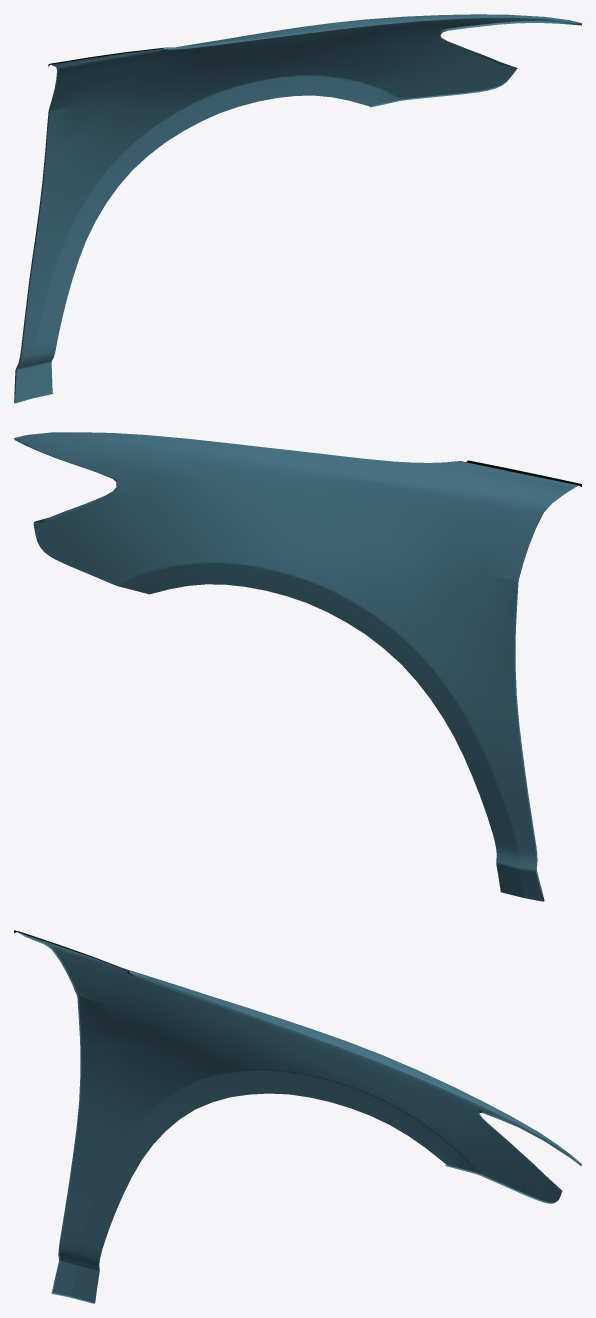
The picture shows the model from 3 angles, top to bottom: view 1: azimuth 30°, elevation 25°; view 2: azimuth 150°, elevation 25°; view 3: azimuth 330°, elevation 25°; orthographic projection. The views are drawn at different scales.
Parts seen in each view (by area): view 1: Y175_18_121B_L_1_DaS_Y175_18_121B_L, Y175_18_121B_L_1_DaS_Y175_18_121B_L_E; view 2: Y175_18_121B_L_1_DaS_Y175_18_121B_L, Y175_18_121B_L_1_DaS_Y175_18_121B_L_E; view 3: Y175_18_121B_L_1_DaS_Y175_18_121B_L, Y175_18_121B_L_1_DaS_Y175_18_121B_L_E.
Part boxes in pixels (bbox=[...]): Y175_18_121B_L_1_DaS_Y175_18_121B_L: bbox=[15, 14, 565, 402]; Y175_18_121B_L_1_DaS_Y175_18_121B_L_E: bbox=[14, 15, 581, 403]; Y175_18_121B_L_1_DaS_Y175_18_121B_L: bbox=[15, 432, 577, 901]; Y175_18_121B_L_1_DaS_Y175_18_121B_L_E: bbox=[14, 438, 578, 901]; Y175_18_121B_L_1_DaS_Y175_18_121B_L: bbox=[23, 934, 578, 1302]; Y175_18_121B_L_1_DaS_Y175_18_121B_L_E: bbox=[18, 931, 581, 1303].
Bounding box in the file's own units: 107 × 69.82 × 16.35.
